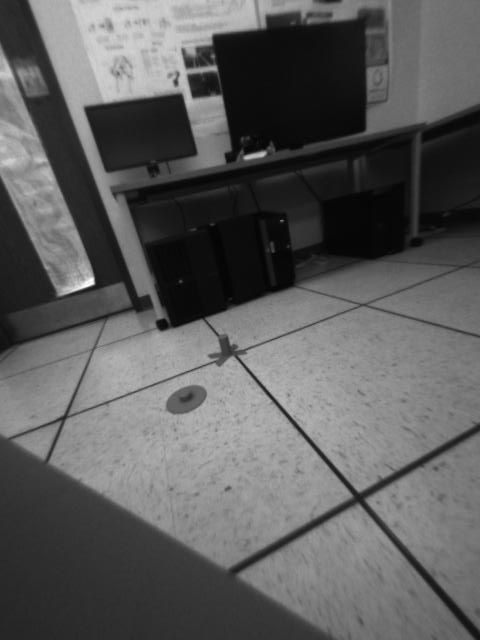X: (208, 334, 248, 367)
